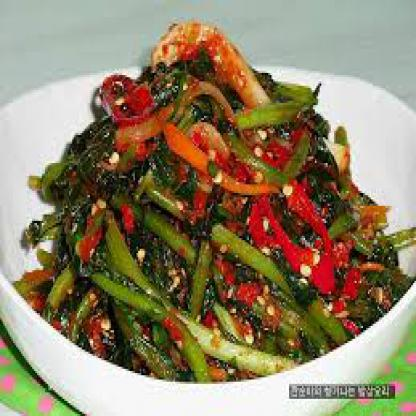young radish Kimchi: (66, 32, 361, 388)
